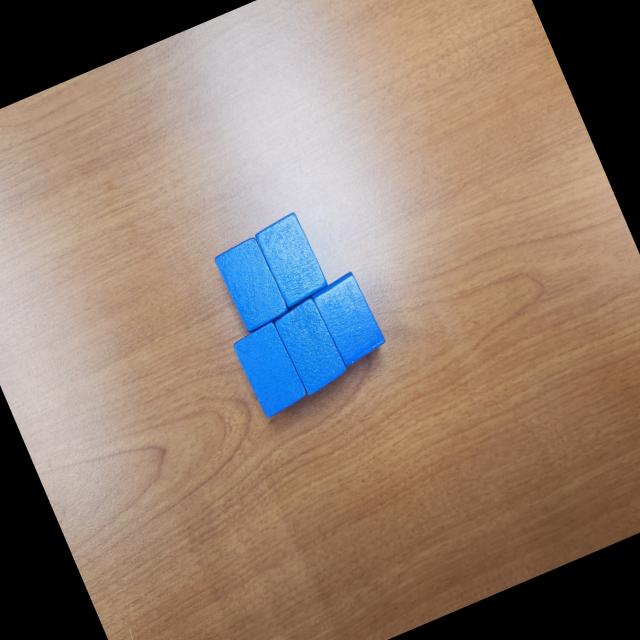blue: (270, 292, 352, 397), (229, 319, 312, 422), (251, 208, 333, 310), (308, 268, 390, 370), (212, 234, 292, 336)
